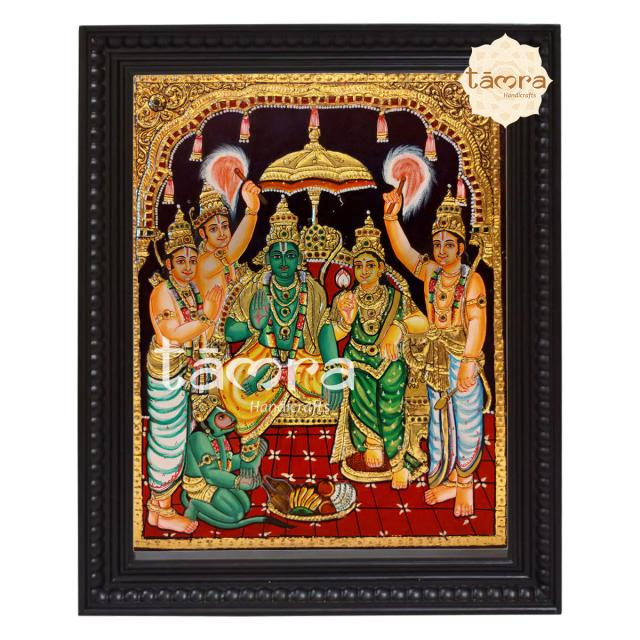painting: (90, 35, 530, 598)
